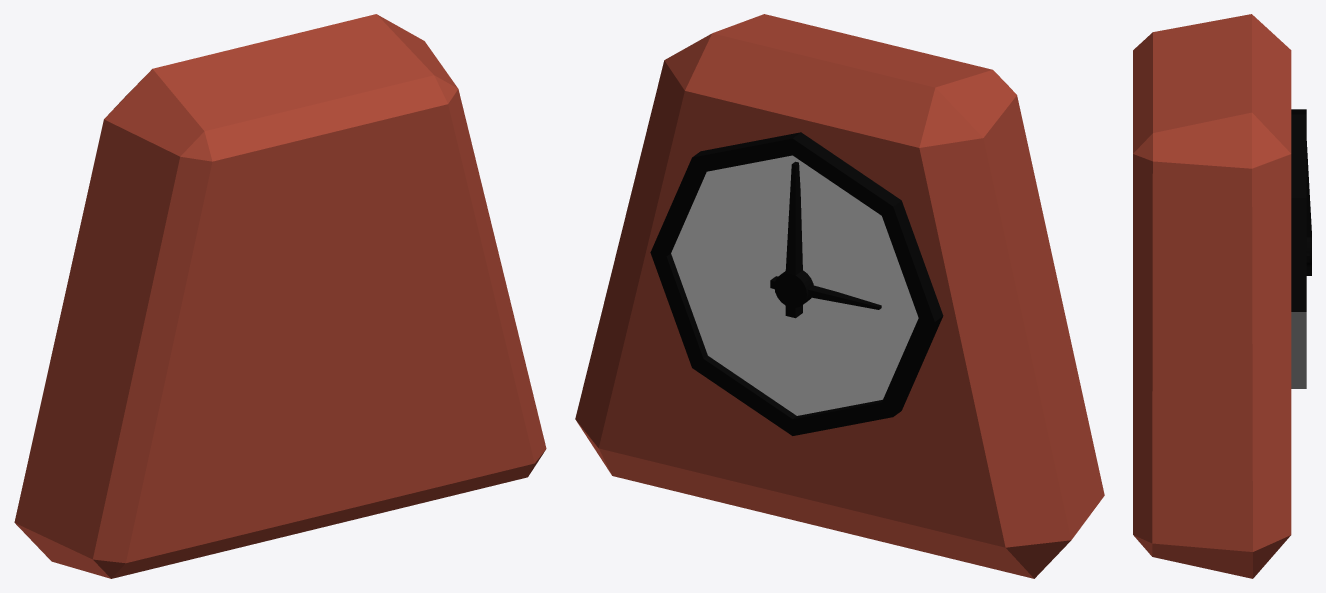
The model's file is Clocknoshatter.fbx.
3 renders of one model, left to right at view 1: azimuth 30°, elevation 25°; view 2: azimuth 150°, elevation 25°; view 3: azimuth 270°, elevation 25°, orthographic. The views are drawn at different scales.
Visible parts, largest first — view 1: Miniclock; view 2: Miniclock; view 3: Miniclock.
Part boxes in pixels (x1,y1,x2,y2): Miniclock: [14, 14, 546, 578]; Miniclock: [575, 14, 1104, 578]; Miniclock: [1133, 14, 1311, 578].
Size of the model in its own units: 3.49 by 3.13 by 1.2.
